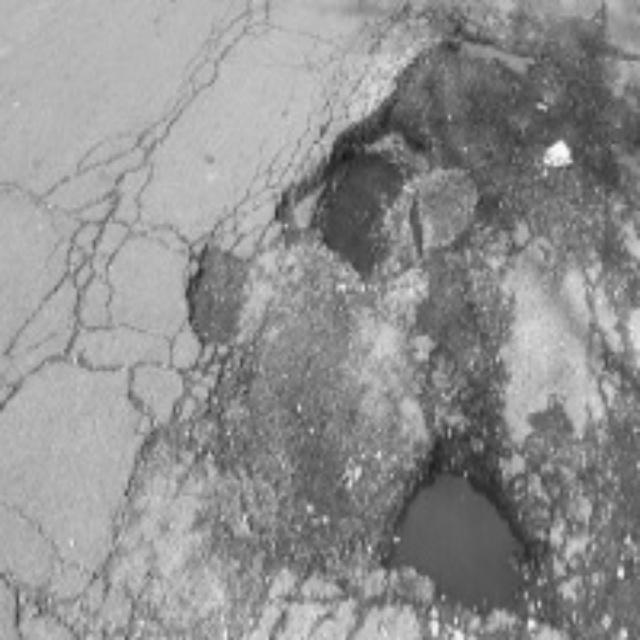Crack: (0, 86, 198, 640)
Pothole: (392, 441, 530, 616), (320, 141, 436, 287)
Surface Erosion: (412, 17, 640, 304)
